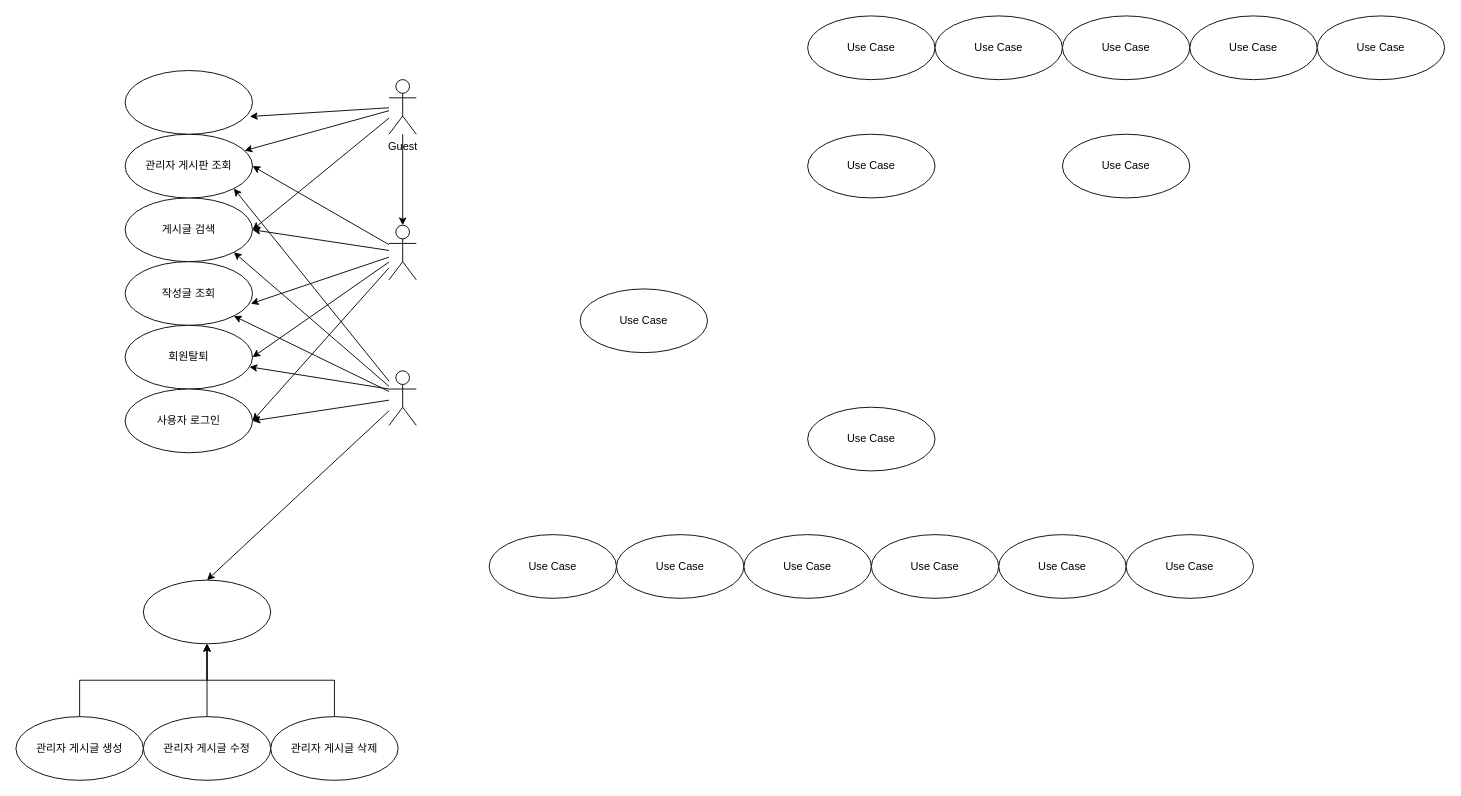
The diagram is 1461 pixels wide and 796 high, and some of its shapes have lost their labels. The centre of each missing label's shape, as x and y in pixels:
Admin: the point at 402,397
User: the point at 402,252
관리자 게시글 관리: the point at 206,611
회원 등록: the point at 188,102
